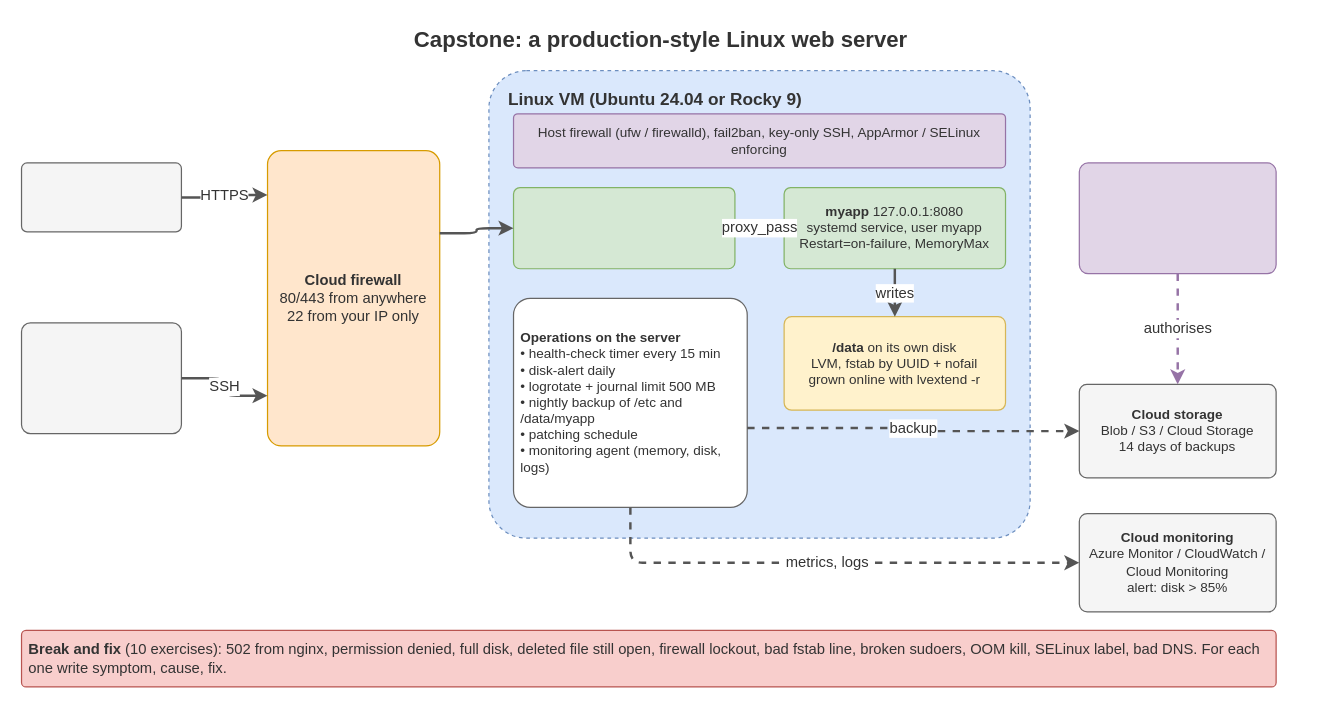
This 1322x708 diagram has some shape labels left out. Here are the shapes that lost their labels. From the top down, the box of each, then its label:
(20, 162, 181, 232): Users browser
(512, 186, 735, 269): nginx :80 / :443 reverse proxy, Let's Encrypt TLS
(1078, 162, 1276, 274): VM identity managed identity / IAM role / service account, no keys on disk
(20, 322, 181, 434): You (admin) SSH from your IP, or Bastion / Session Manager / IAP
